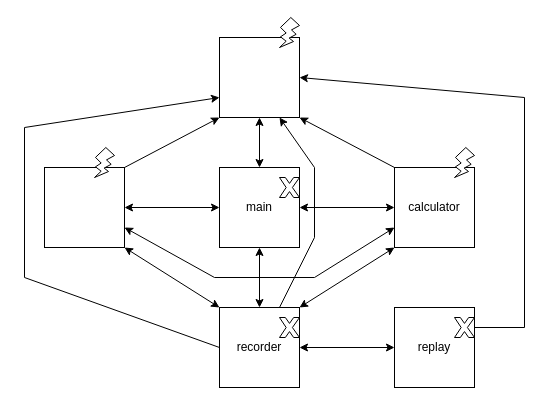
The diagram is 550 pixels wide and 405 high, and some of its shapes have lost their labels. Here are the shapes that lost their labels. From the top down, the centre of each, then its label:
the point at 259,77: login
the point at 84,207: math game
